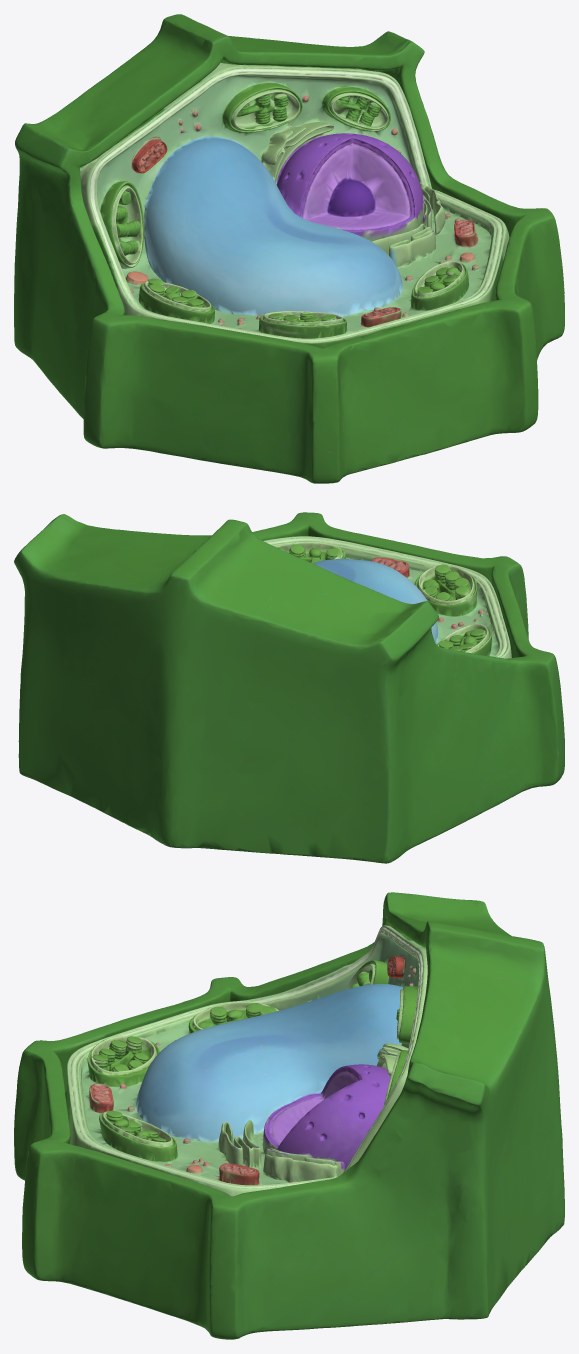
The model's file is celula_vegetal_opt.glb.
3 renders of one model, top to bottom at view 1: azimuth 30°, elevation 25°; view 2: azimuth 150°, elevation 25°; view 3: azimuth 270°, elevation 25°, orthographic. The views are drawn at different scales.
Bounding box in the file's own units: 1.9 × 1.09 × 1.83.
1 material, 1 textured.
